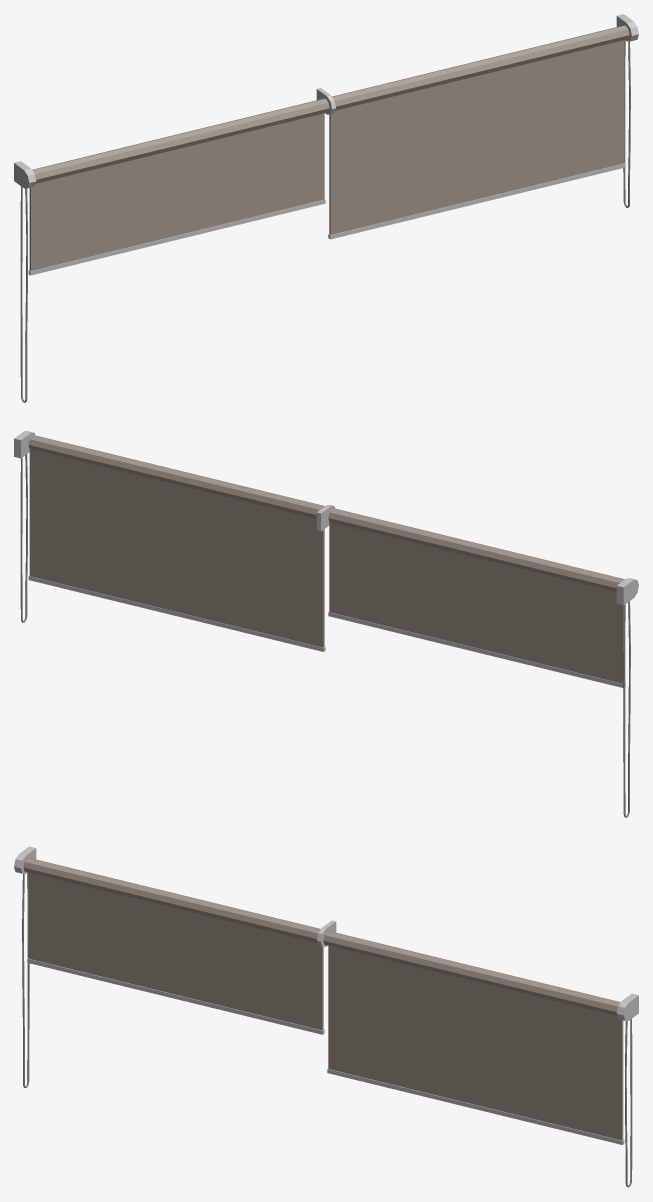
Rendered from Curtains6_C2.fbx.
3 views of the same model, one above another, from view 1: azimuth 30°, elevation 25°; view 2: azimuth 150°, elevation 25°; view 3: azimuth 330°, elevation 25° (orthographic).
Visible parts, largest first — view 1: Curtains6_C2; view 2: Curtains6_C2; view 3: Curtains6_C2.
Part boxes in pixels (x1,y1,x2,y2): Curtains6_C2: (14, 14, 638, 402); Curtains6_C2: (14, 431, 638, 817); Curtains6_C2: (14, 846, 638, 1187).
Size of the model in its own units: 221 by 81.55 by 9.55.
